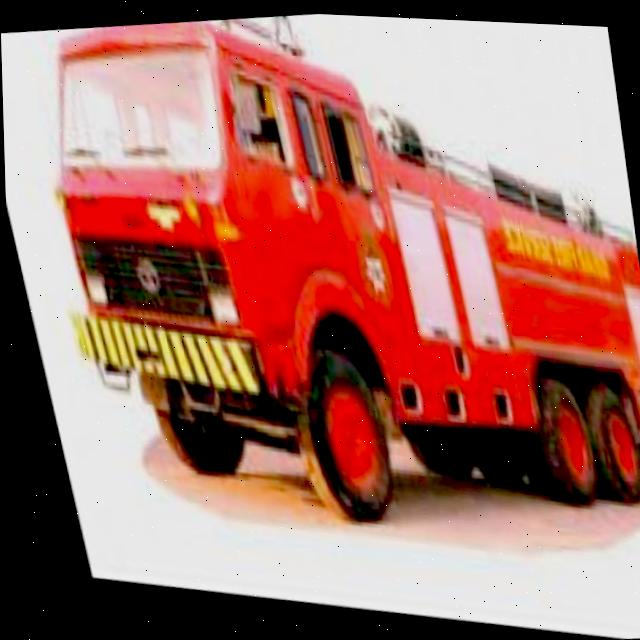emergency: (28, 1, 640, 559)
